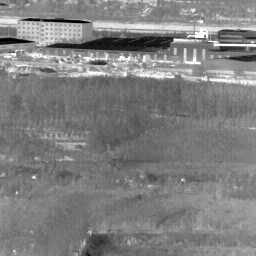aircraft: (84, 40, 86, 42)
